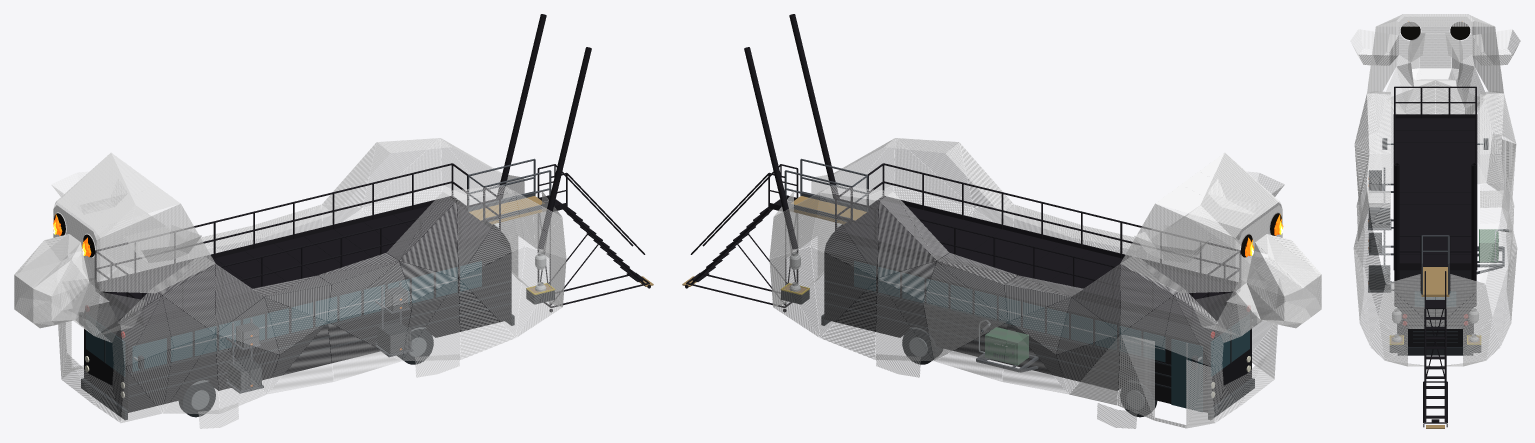
The model's file is baaabs-panelized-v23.glb.
The picture shows the model from 3 angles, left to right: view 1: azimuth 30°, elevation 25°; view 2: azimuth 150°, elevation 25°; view 3: azimuth 270°, elevation 25°; orthographic projection. The views are drawn at different scales.
Parts seen in each view (by area): view 1: Bus__Body_96in_wide, H-D-014 | Driver head side upper, H-D-001 | Driver continuous side, B-D-054 | Driver Skirt 07 b, B-D-050 | Driver Skirt 05 b, B-D-051 | Driver Skirt 06 a, B-D-043 | Driver Skirt 02 a, B-D-038 | Driver Flank 07 b, B-D-036 | Driver Flank 06 b, B-D-053 | Driver Skirt 07 a, B-D-049 | Driver Skirt 05 a, B-D-047 | Driver Skirt 04 a (+74 smaller); view 2: Bus__Body_96in_wide, H-P-014 | Passenger head side upper, H-P-001 | Passenger continuous side, B-P-062 | Passenger Skirt 07 b, B-P-058 | Passenger Skirt 05 b, B-P-059 | Passenger Skirt 06 a, B-P-046 | Passenger Flank 07 b, B-P-044 | Passenger Flank 06 b, B-P-061 | Passenger Skirt 07 a, B-P-057 | Passenger Skirt 05 a, B-P-055 | Passenger Skirt 04 a, B-D-038 | Driver Flank 07 b (+77 smaller); view 3: Bus__Body_96in_wide, Bus__Rear_engine_hatch, Dancefloor_section_01, Dancefloor_section_02, Dancefloor_section_03, Dancefloor_section_04, B-D-059 | Driver Rear surround 06 a, B-P-015 | Passenger Rear surround 05 a, Dancefloor_section_06, Dancefloor_section_09, Dancefloor_section_05, Dancefloor_section_07 (+120 smaller).
Boxes of the visible parts, left/top/right/bottom form: Bus__Body_96in_wide: left=84, top=240, right=511, bottom=412; H-D-014 | Driver head side upper: left=100, top=203, right=207, bottom=259; H-D-001 | Driver continuous side: left=100, top=249, right=215, bottom=293; B-D-054 | Driver Skirt 07 b: left=459, top=246, right=524, bottom=336; B-D-050 | Driver Skirt 05 b: left=329, top=302, right=412, bottom=360; B-D-051 | Driver Skirt 06 a: left=403, top=280, right=460, bottom=360; B-D-043 | Driver Skirt 02 a: left=163, top=335, right=219, bottom=413; B-D-038 | Driver Flank 07 b: left=457, top=193, right=514, bottom=276; B-D-036 | Driver Flank 06 b: left=399, top=201, right=458, bottom=277; B-D-053 | Driver Skirt 07 a: left=458, top=279, right=515, bottom=359; B-D-049 | Driver Skirt 05 a: left=328, top=322, right=400, bottom=381; B-D-047 | Driver Skirt 04 a: left=268, top=322, right=333, bottom=393; Bus__Body_96in_wide: left=824, top=240, right=1251, bottom=412; H-P-014 | Passenger head side upper: left=1128, top=203, right=1235, bottom=259; H-P-001 | Passenger continuous side: left=1120, top=249, right=1235, bottom=293; B-P-062 | Passenger Skirt 07 b: left=811, top=246, right=876, bottom=336; B-P-058 | Passenger Skirt 05 b: left=923, top=302, right=1007, bottom=360; B-P-059 | Passenger Skirt 06 a: left=875, top=280, right=932, bottom=360; B-P-046 | Passenger Flank 07 b: left=821, top=193, right=878, bottom=276; B-P-044 | Passenger Flank 06 b: left=877, top=201, right=936, bottom=277; B-P-061 | Passenger Skirt 07 a: left=820, top=279, right=877, bottom=359; B-P-057 | Passenger Skirt 05 a: left=935, top=322, right=1007, bottom=381; B-P-055 | Passenger Skirt 04 a: left=1002, top=322, right=1067, bottom=393; B-D-038 | Driver Flank 07 b: left=896, top=138, right=972, bottom=206; Bus__Body_96in_wide: left=1397, top=270, right=1473, bottom=346; Bus__Rear_engine_hatch: left=1408, top=321, right=1462, bottom=346; Dancefloor_section_01: left=1393, top=118, right=1477, bottom=130; Dancefloor_section_02: left=1393, top=130, right=1477, bottom=142; Dancefloor_section_03: left=1393, top=143, right=1477, bottom=155; Dancefloor_section_04: left=1393, top=155, right=1477, bottom=167; B-D-059 | Driver Rear surround 06 a: left=1386, top=274, right=1435, bottom=326; B-P-015 | Passenger Rear surround 05 a: left=1435, top=274, right=1484, bottom=326; Dancefloor_section_06: left=1393, top=180, right=1477, bottom=192; Dancefloor_section_09: left=1393, top=217, right=1477, bottom=229; Dancefloor_section_05: left=1393, top=167, right=1477, bottom=179; Dancefloor_section_07: left=1393, top=192, right=1477, bottom=204.
Bounding box in the file's own units: 19.95 × 8.42 × 5.52.
Materials: 232 (206 with a texture image).
